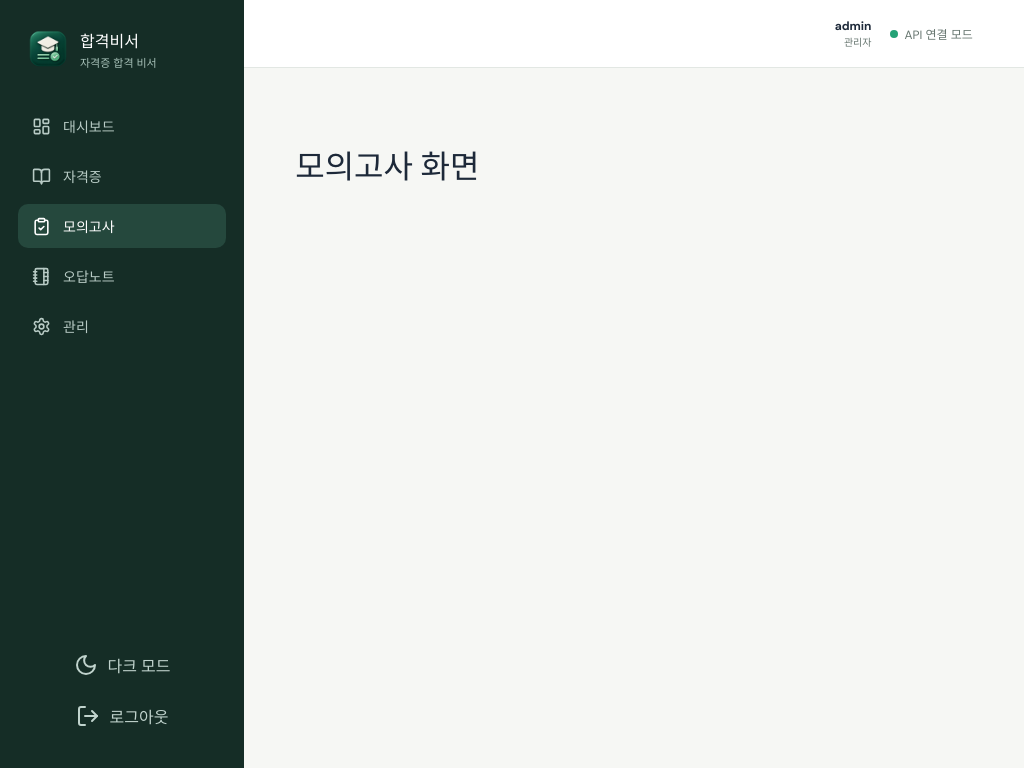
Test: Mock exam exit guard › shows progress and unanswered numbers before menu navigation
The width and height of the screenshot is (1024, 768).
Click the link "대시보드" at (73, 126), box [32, 116, 114, 136]
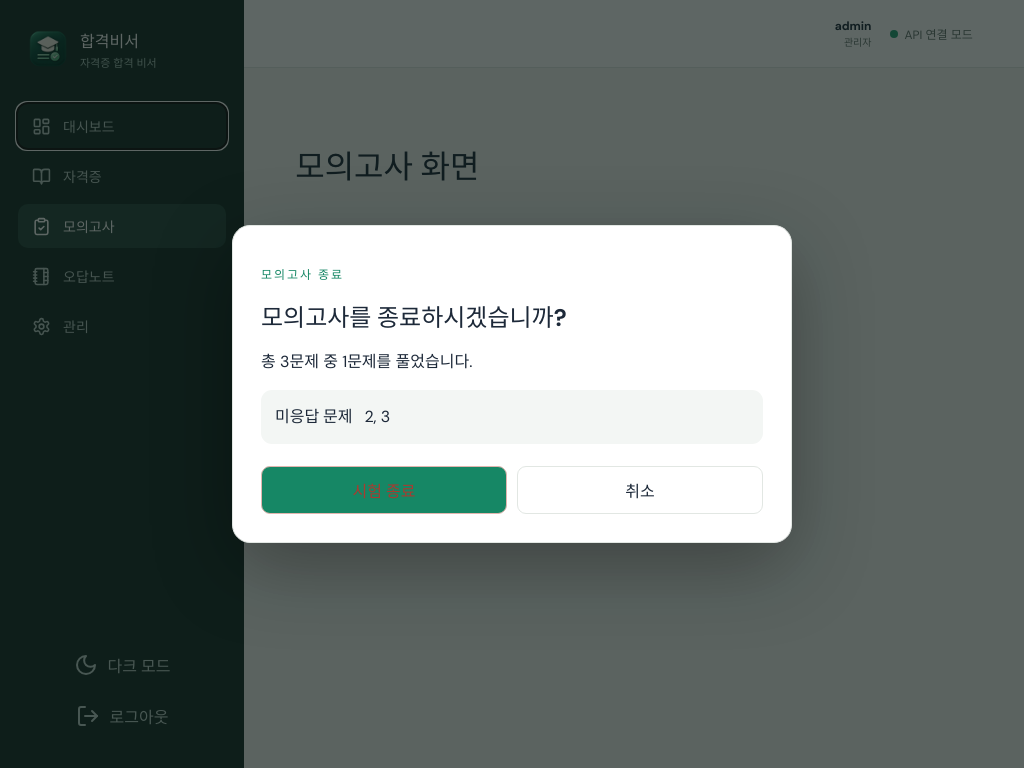
Expected: the dialog shows "모의고사를 종료하시겠습니까?", [261, 302, 567, 332]
Expected: the dialog shows "총 3문제 중 1문제를 풀었습니다.", [232, 225, 792, 543]
Expected: the dialog shows "2, 3", [364, 406, 390, 427]
Click the button "취소" at (640, 490), box [517, 466, 763, 514]
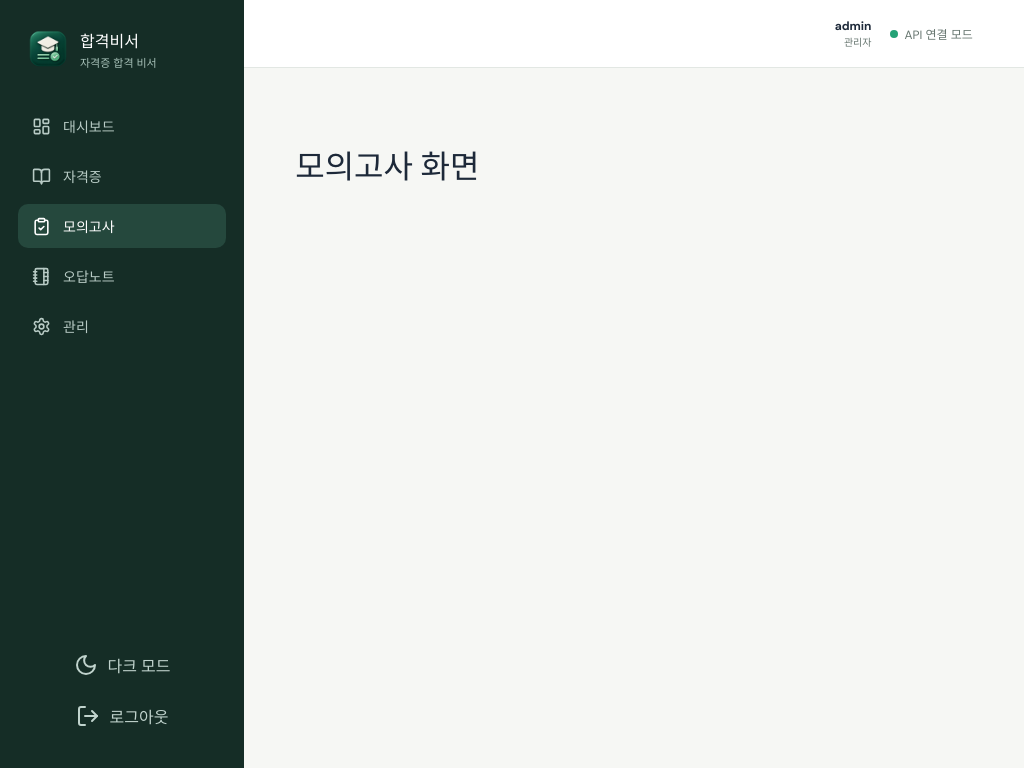
Expected: the heading "모의고사 화면" is shown, [295, 146, 479, 188]
Click the link "대시보드" at (73, 126), box [32, 116, 114, 136]
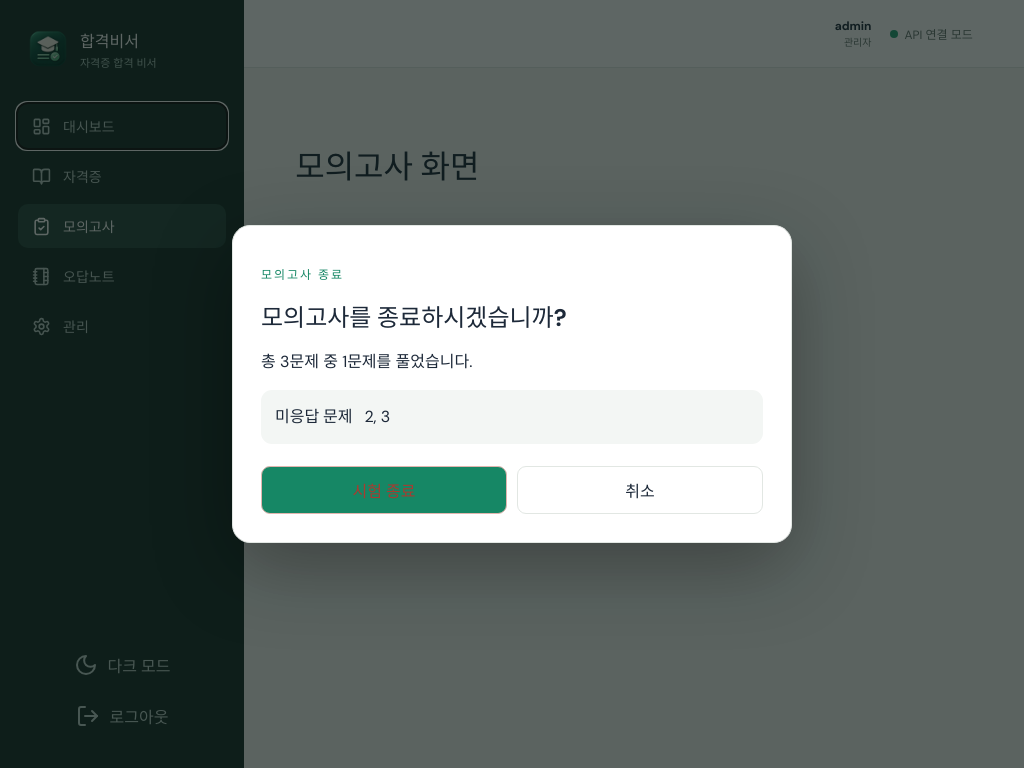
Click the button "시험 종료" at (384, 490), box [261, 466, 507, 514]
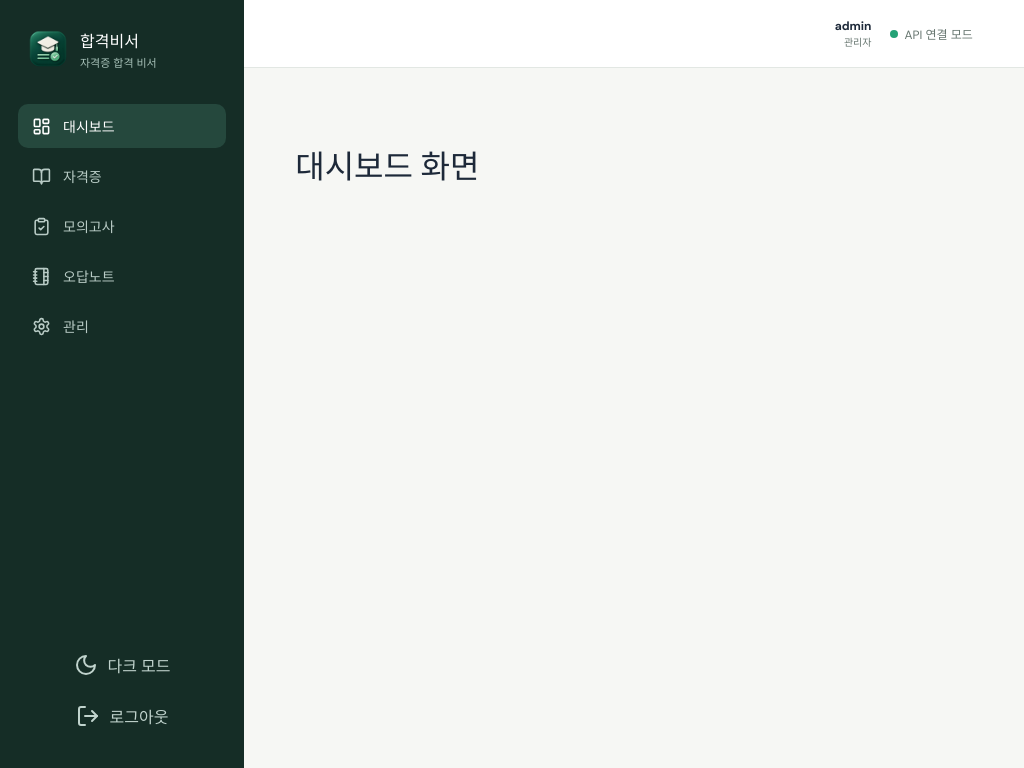
Expected: the heading "대시보드 화면" is shown, [295, 146, 479, 188]
